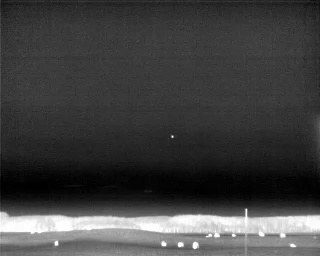BIRD: (169, 132, 176, 141)
